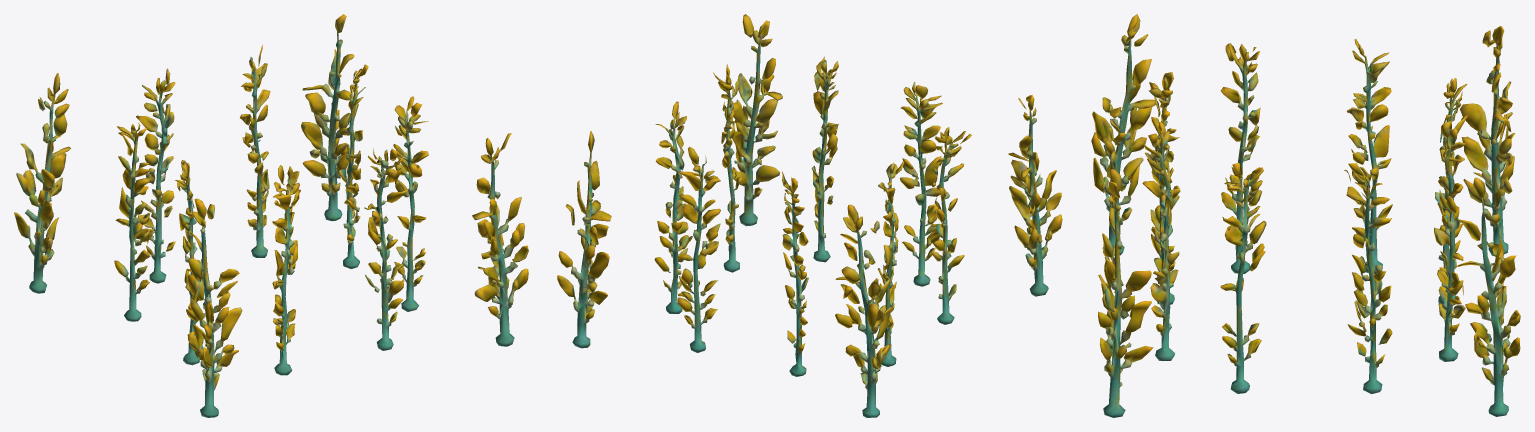
File: kelp.glb
3 views of the same model, side by side, from view 1: azimuth 30°, elevation 25°; view 2: azimuth 150°, elevation 25°; view 3: azimuth 270°, elevation 25° (orthographic). The views are drawn at different scales.
Visible parts, largest first — view 1: prop_lo; view 2: prop_lo; view 3: prop_lo.
Boxes of the visible parts, left/top/right/bottom form: prop_lo: left=14, top=14, right=528, bottom=417; prop_lo: left=557, top=14, right=1062, bottom=417; prop_lo: left=1091, top=14, right=1520, bottom=417.
Size of the model in its own units: 1.9 by 1.16 by 1.89.
1 material, 1 textured.
